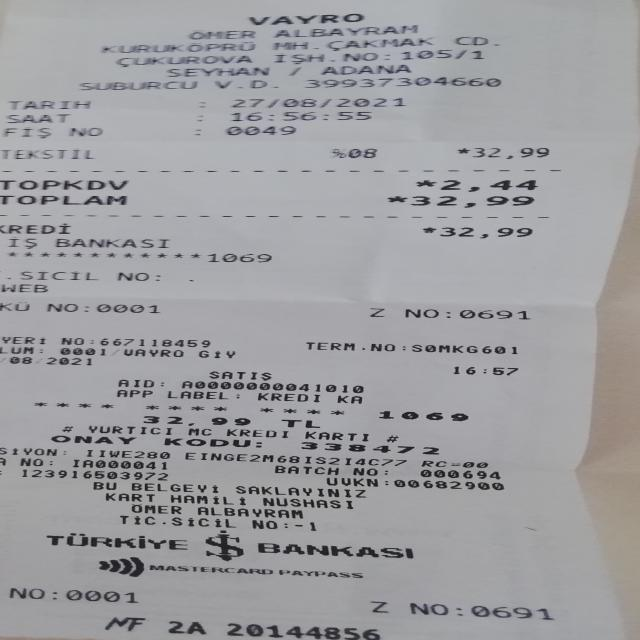text: (50, 527, 182, 557), (186, 452, 406, 466), (229, 620, 379, 639), (183, 378, 361, 394), (260, 540, 411, 558), (301, 439, 438, 456), (301, 78, 503, 88), (236, 484, 364, 499), (22, 468, 165, 481), (272, 25, 422, 37), (410, 194, 533, 208), (117, 514, 236, 528), (229, 97, 404, 106), (144, 563, 270, 575), (229, 111, 372, 121), (248, 13, 364, 25), (0, 194, 126, 205), (54, 237, 168, 249), (199, 505, 300, 518), (262, 496, 354, 510), (101, 336, 207, 348), (0, 180, 127, 190), (440, 225, 530, 239), (440, 179, 536, 192), (166, 435, 247, 450), (78, 80, 198, 90), (477, 604, 551, 620), (132, 480, 216, 494), (398, 480, 504, 491), (381, 408, 464, 422), (114, 57, 254, 65), (90, 423, 170, 437), (52, 432, 132, 446), (170, 492, 243, 507), (325, 38, 433, 48), (472, 146, 549, 160), (86, 447, 167, 460), (0, 148, 92, 159), (68, 588, 135, 603), (70, 459, 170, 469), (270, 53, 380, 62), (7, 270, 97, 281), (166, 67, 270, 76), (318, 64, 411, 74), (2, 356, 94, 366), (102, 43, 184, 54), (279, 568, 361, 579), (459, 308, 528, 321), (206, 533, 240, 559), (399, 50, 483, 60), (6, 100, 89, 110), (421, 470, 500, 480), (163, 620, 212, 636), (224, 125, 295, 136), (306, 429, 366, 442), (0, 223, 70, 234), (96, 302, 159, 314), (228, 427, 286, 440), (208, 251, 270, 263), (188, 41, 254, 52), (276, 464, 336, 476), (454, 365, 515, 376), (168, 391, 228, 402), (185, 30, 257, 39), (105, 490, 151, 504), (214, 78, 278, 88), (122, 348, 184, 358), (417, 343, 473, 354), (210, 370, 269, 380), (5, 113, 70, 122), (64, 345, 112, 357), (260, 393, 324, 402), (0, 127, 50, 138), (130, 503, 180, 514), (324, 477, 378, 487), (0, 456, 42, 468), (143, 414, 180, 427), (0, 283, 48, 293), (411, 601, 443, 616), (311, 341, 354, 352), (282, 417, 318, 430), (0, 448, 57, 456), (482, 344, 522, 355), (10, 586, 41, 600), (212, 416, 248, 428), (199, 348, 234, 360), (66, 126, 103, 137), (245, 519, 282, 530), (457, 36, 490, 48), (118, 387, 150, 399), (349, 146, 376, 160), (270, 40, 304, 51), (0, 344, 31, 356), (7, 237, 38, 249), (406, 307, 436, 319), (120, 377, 151, 388), (45, 303, 78, 313), (98, 556, 114, 575), (118, 272, 148, 282), (0, 302, 32, 311), (416, 179, 436, 192), (423, 457, 444, 469), (387, 194, 406, 207), (94, 479, 113, 492), (354, 466, 375, 477), (0, 337, 46, 342), (370, 600, 386, 614), (188, 426, 208, 437), (339, 396, 363, 405), (372, 342, 393, 352), (460, 461, 490, 468), (296, 520, 315, 531), (62, 336, 81, 346), (370, 306, 383, 319), (286, 64, 300, 76), (328, 148, 344, 158), (422, 225, 434, 238), (379, 50, 392, 61), (310, 39, 320, 51), (388, 432, 396, 443), (460, 603, 466, 617), (455, 148, 469, 154), (198, 98, 205, 109), (192, 126, 199, 137), (196, 111, 202, 123), (64, 422, 70, 434), (363, 342, 370, 352), (403, 342, 410, 352), (51, 587, 56, 600), (452, 458, 457, 469), (381, 480, 389, 486), (46, 457, 50, 468), (287, 519, 291, 530), (84, 302, 88, 312), (385, 466, 389, 476), (155, 272, 158, 282), (256, 438, 258, 451), (446, 308, 448, 320), (160, 378, 162, 389), (237, 390, 239, 400), (40, 344, 41, 356), (90, 336, 91, 346), (191, 415, 191, 427)
